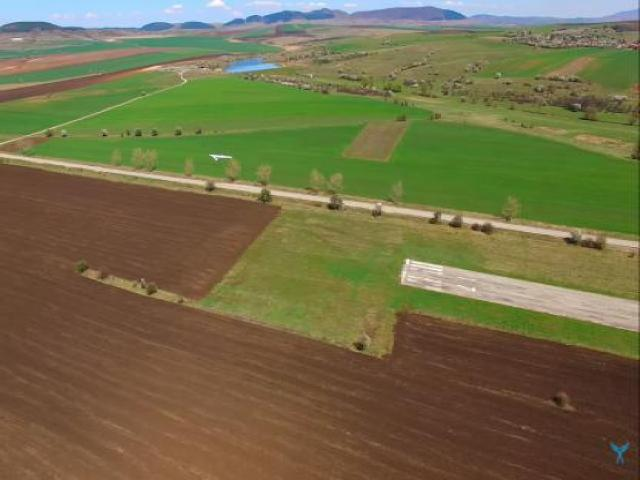uav: (204, 146, 238, 166)
